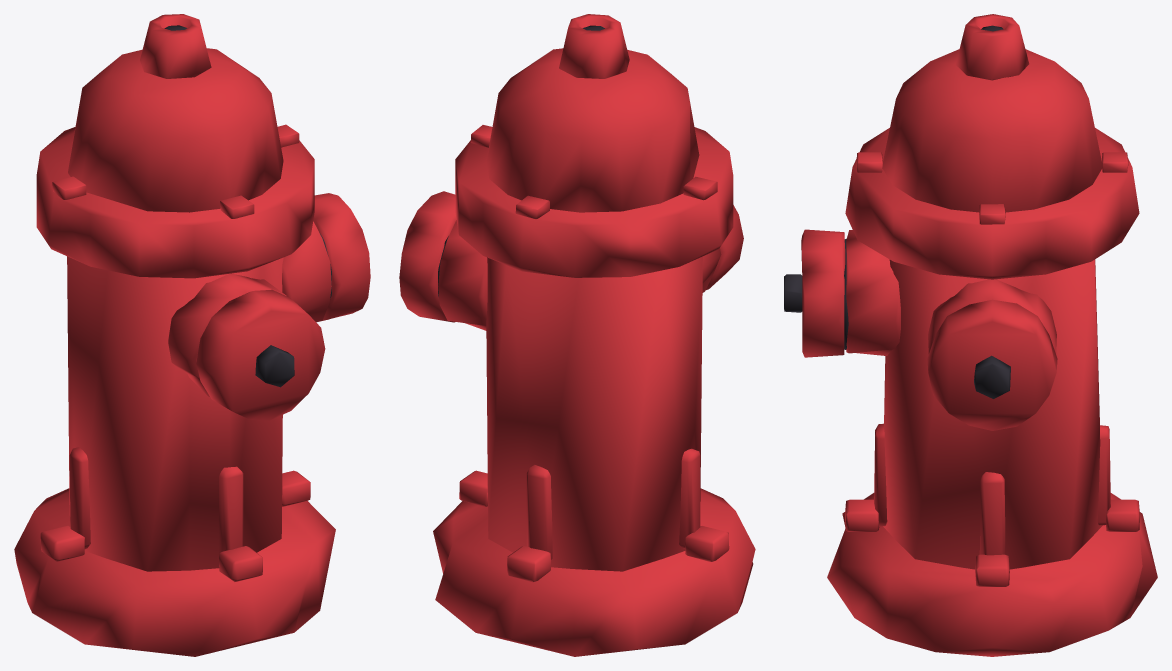
The picture shows the model from 3 angles, left to right: view 1: azimuth 30°, elevation 25°; view 2: azimuth 150°, elevation 25°; view 3: azimuth 270°, elevation 25°; orthographic projection.
Visible parts, largest first — view 1: body, object 1; view 2: body; view 3: body, object 1.
Part boxes in pixels (<box>): body: <box>14,14,370,656</box>; object 1: <box>164,25,331,387</box>; body: <box>399,14,755,656</box>; body: <box>801,14,1157,656</box>; object 1: <box>784,25,1010,398</box>.
Size of the model in its own units: 0.6431 by 1.08 by 0.6431.
